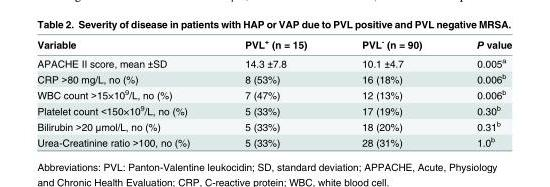table: (36, 36, 511, 147)
table column: (36, 36, 216, 147), (216, 36, 333, 147), (333, 36, 448, 147), (448, 36, 511, 147)
table column header: (36, 36, 511, 53)
table row: (36, 36, 511, 53), (36, 53, 511, 70), (36, 70, 511, 86), (36, 101, 511, 117), (36, 117, 511, 133), (36, 86, 511, 101), (36, 133, 511, 147)
